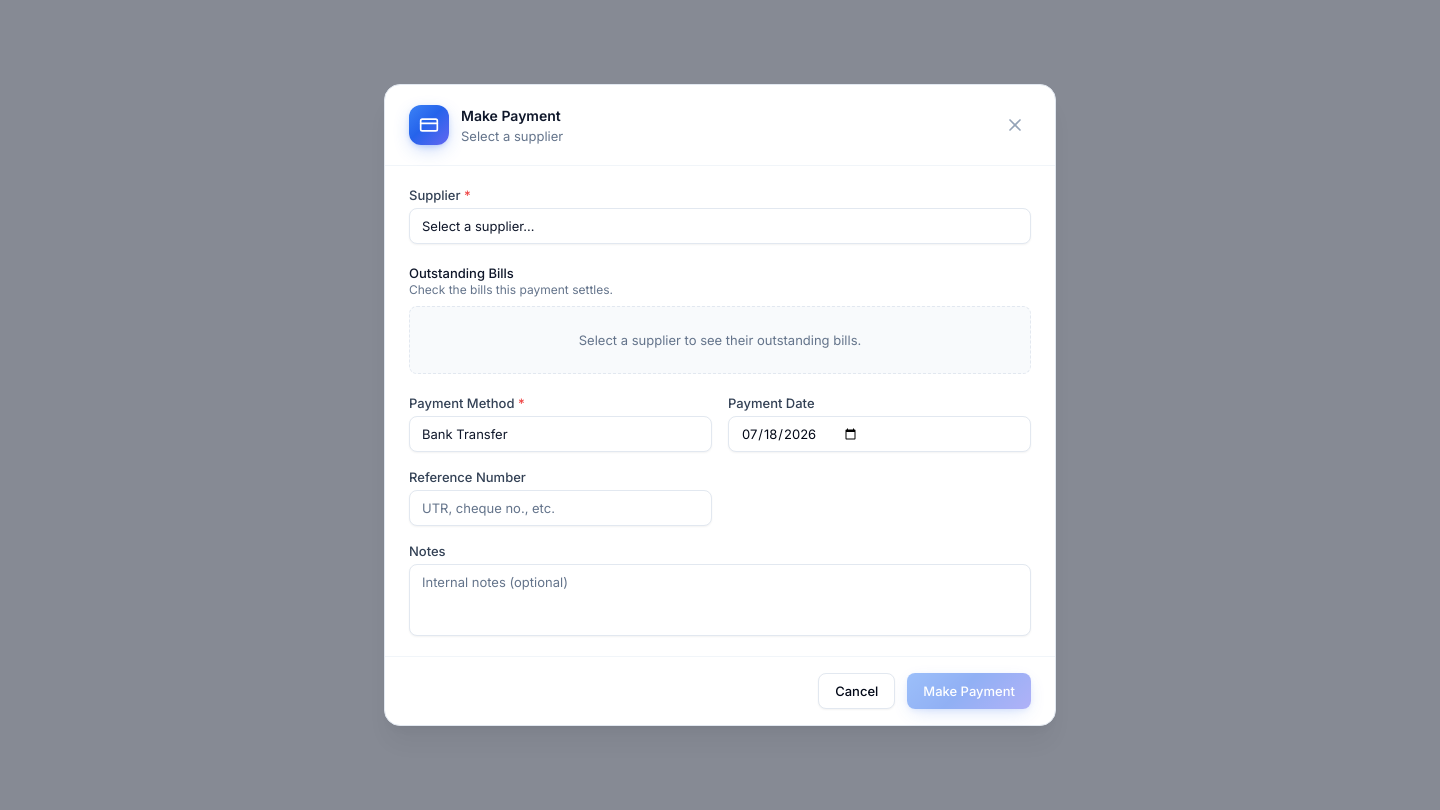
RecordSupplierPaymentDialog › shows a party picker and loads outstanding bills on selection
Expected: the text "Select a supplier to see their outstanding bills." is shown, [409,306,1031,374]
Select "Globex Supplies" in the dropdown labelled "Supplier *" at (720, 226), box [409,208,1031,244]
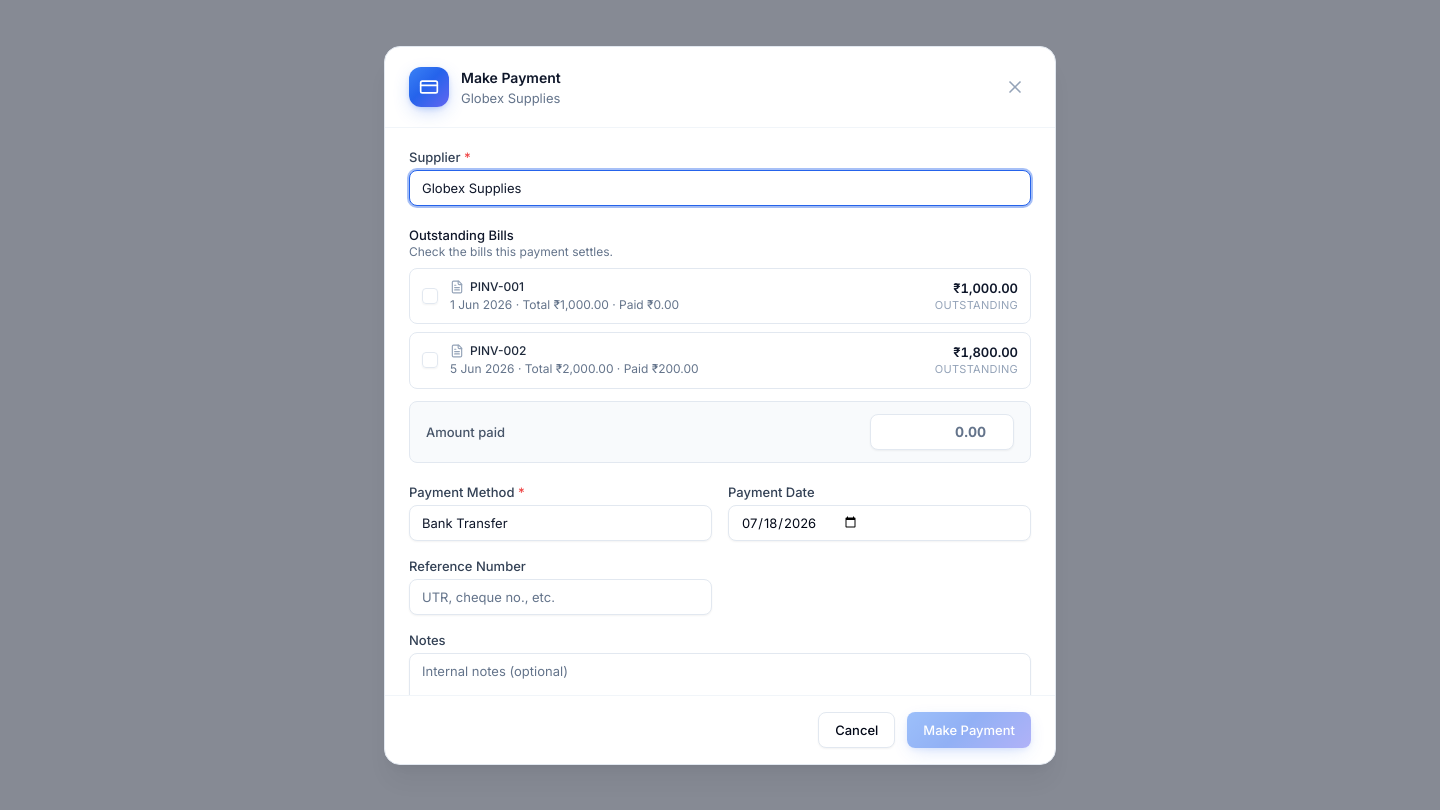
Expected: the text "PINV-001" is shown, [450,279,524,294]
Expected: the text "PINV-002" is shown, [450,343,526,358]
